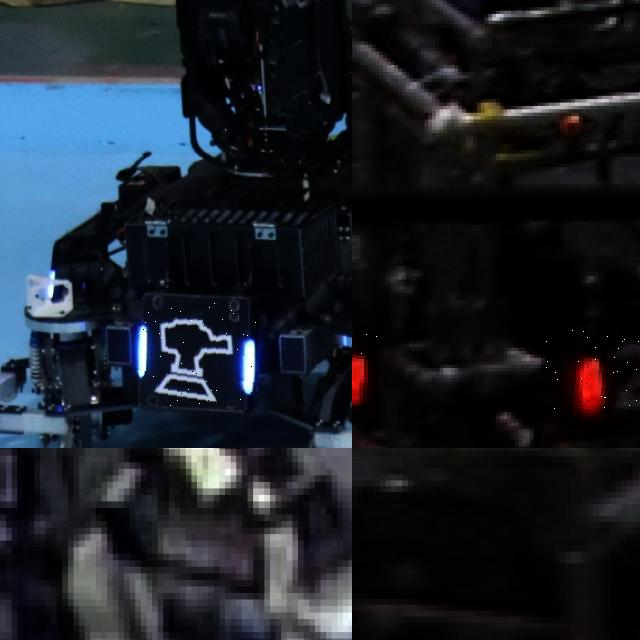Bs: (134, 302, 259, 406)
R2: (545, 323, 640, 419), (352, 306, 377, 405)
